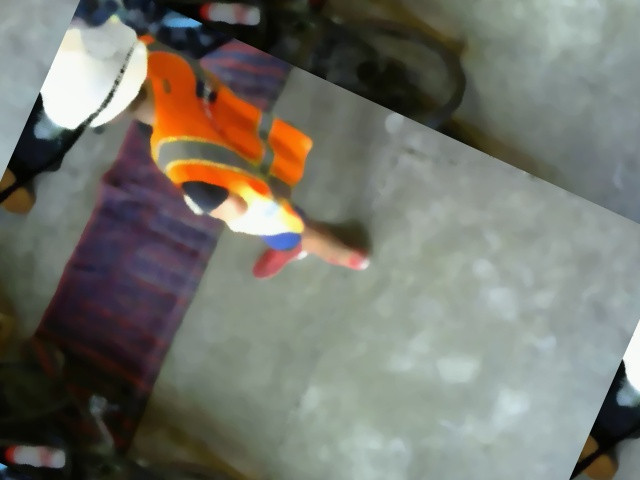three: (73, 21, 124, 64)
